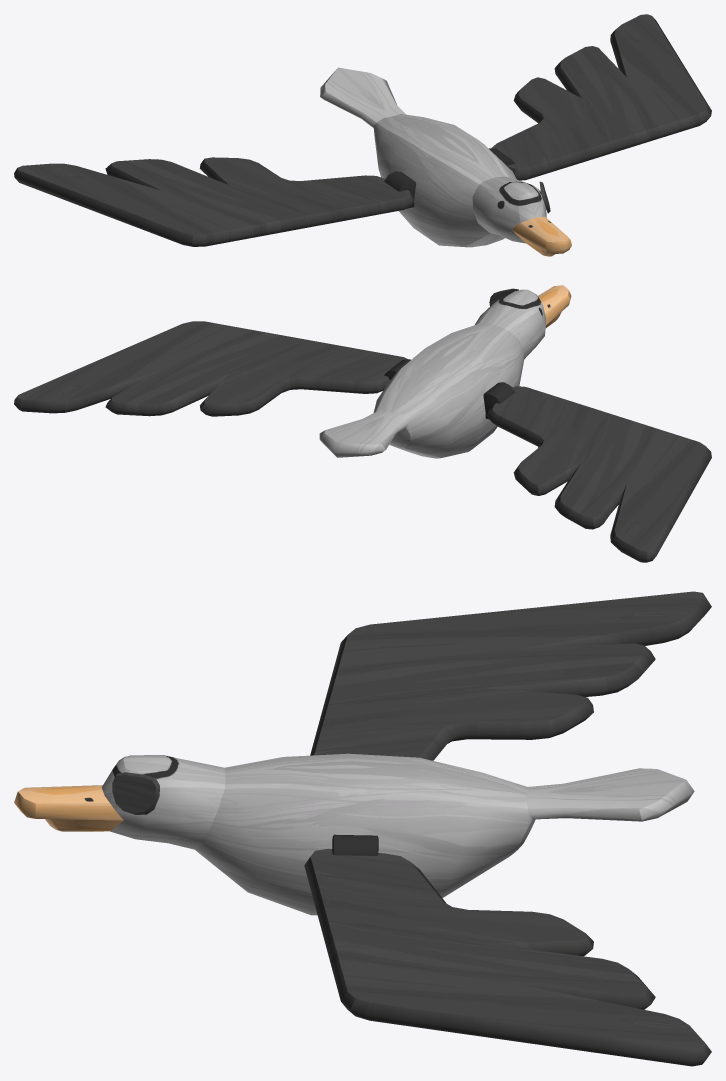
File: seagulls.glb
The picture shows the model from 3 angles, top to bottom: view 1: azimuth 30°, elevation 25°; view 2: azimuth 150°, elevation 25°; view 3: azimuth 270°, elevation 25°; orthographic projection. The views are drawn at different scales.
Visible parts, largest first — view 1: Seagull; view 2: Seagull; view 3: Seagull.
Part boxes in pixels (x1,y1,x2,y2): Seagull: (14, 14, 711, 256); Seagull: (14, 285, 711, 562); Seagull: (14, 591, 711, 1066).
Size of the model in its own units: 1.65 by 0.2408 by 1.05.
Materials: 1 (1 with a texture image).
